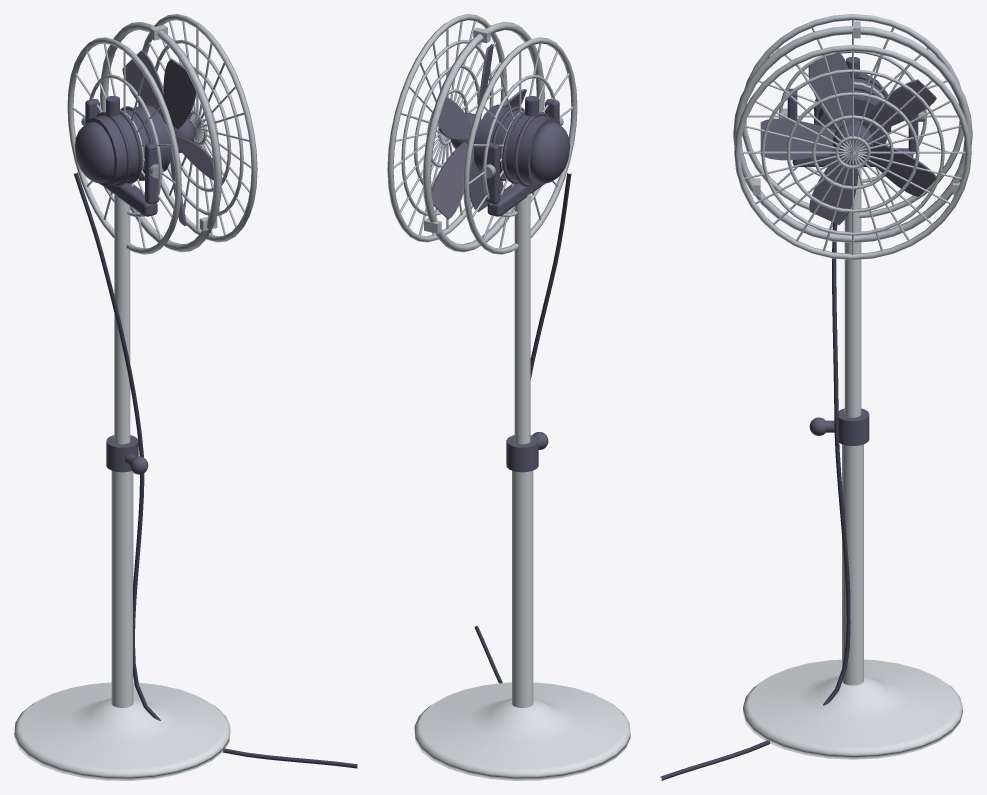
The model's file is ventilateur.glb.
The picture shows the model from 3 angles, left to right: view 1: azimuth 30°, elevation 25°; view 2: azimuth 150°, elevation 25°; view 3: azimuth 270°, elevation 25°; orthographic projection.
Visible parts, largest first — view 1: ventilateur; view 2: ventilateur; view 3: ventilateur.
Boxes of the visible parts, bbox=[...] form: ventilateur: bbox=[14, 14, 357, 780]; ventilateur: bbox=[387, 14, 630, 780]; ventilateur: bbox=[660, 14, 972, 780].
Bounding box in the file's own units: 0.503 × 1.42 × 0.5706.
